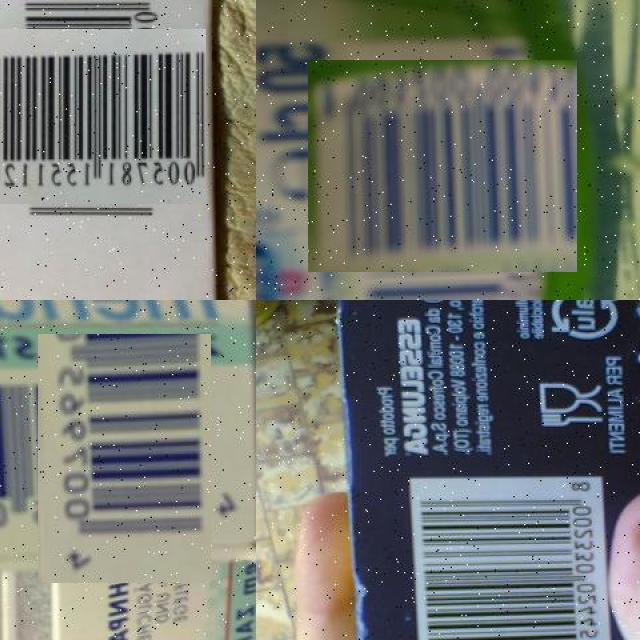Barcode: (322, 45, 563, 286), (19, 353, 230, 565), (0, 14, 191, 218), (403, 476, 605, 640)
